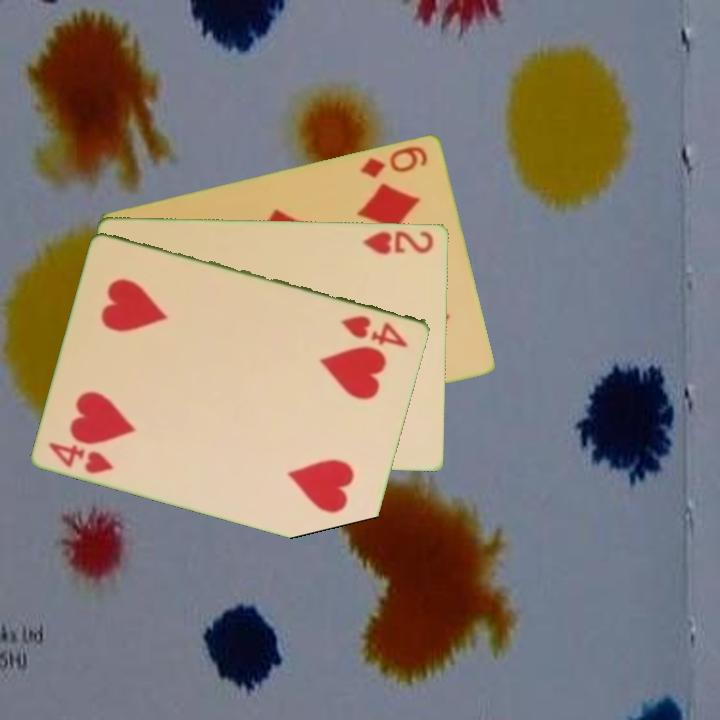2h: (359, 226, 436, 257)
4h: (338, 311, 412, 350), (45, 438, 117, 476)
6d: (357, 142, 431, 181)
